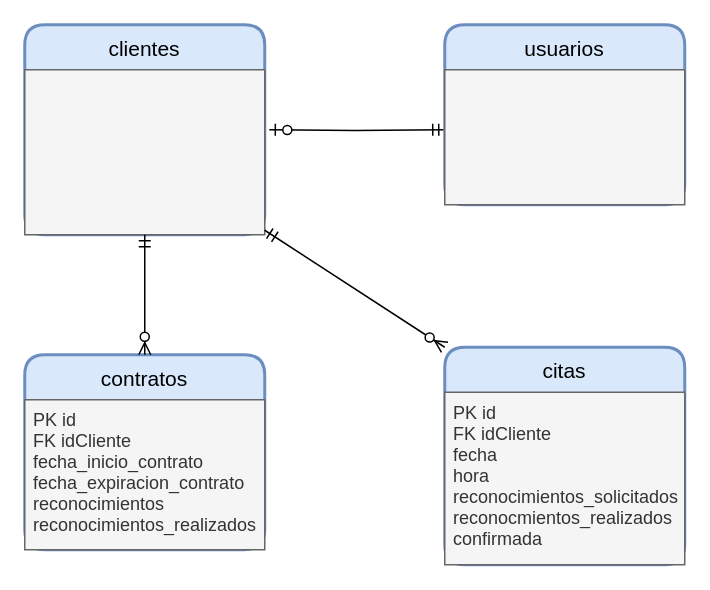
This 710x590 diagram has some shape labels left out. Each missing label, with the centre of its shape:
"PK id FK idUsuario UQ cif UQ razonSocial direccion municipio provincia" belongs at [144,151].
"PK id UQ usuario UQ email contrasena rol [admin, medico, cliente]" belongs at [564,136].
